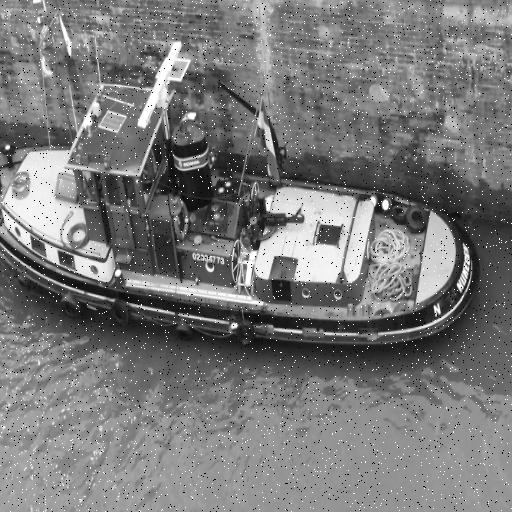tugboat: (1, 37, 485, 360)
